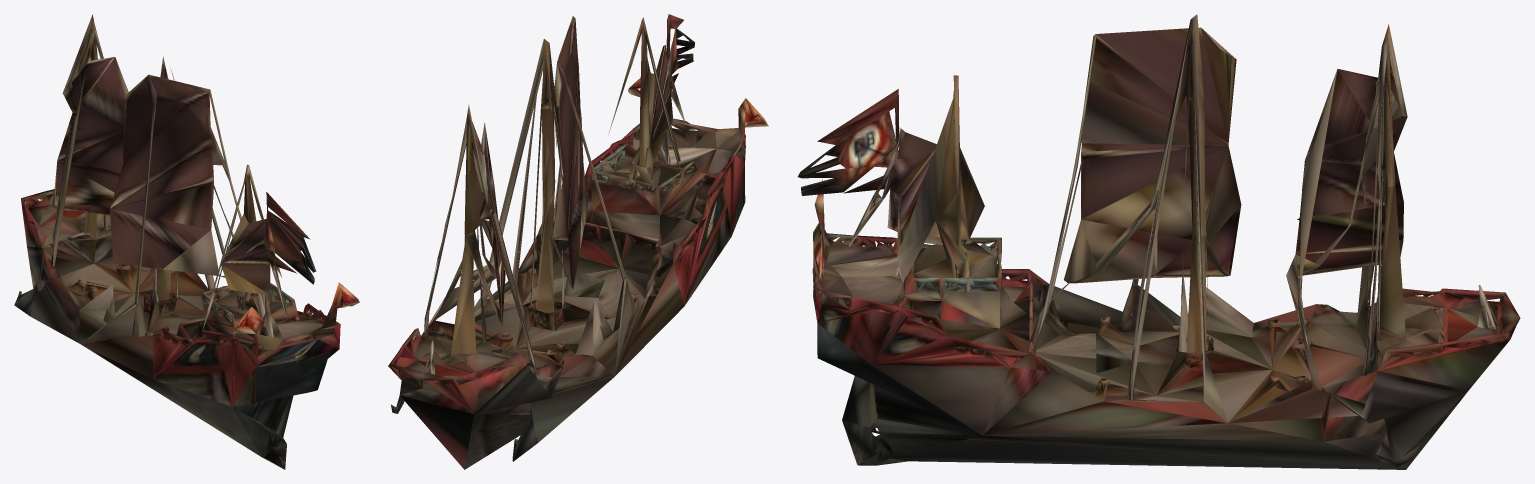
The model's file is mingship_lod2.glb.
The picture shows the model from 3 angles, left to right: view 1: azimuth 30°, elevation 25°; view 2: azimuth 150°, elevation 25°; view 3: azimuth 270°, elevation 25°; orthographic projection. The views are drawn at different scales.
Visible parts, largest first — view 1: tripo_node_70cdce41-6409-4703-9004-900b044624e9; view 2: tripo_node_70cdce41-6409-4703-9004-900b044624e9; view 3: tripo_node_70cdce41-6409-4703-9004-900b044624e9.
Part boxes in pixels (bbox=[...]): tripo_node_70cdce41-6409-4703-9004-900b044624e9: bbox=[14, 14, 359, 469]; tripo_node_70cdce41-6409-4703-9004-900b044624e9: bbox=[388, 14, 768, 469]; tripo_node_70cdce41-6409-4703-9004-900b044624e9: bbox=[797, 14, 1520, 469].
Size of the model in its own units: 0.29 by 0.6692 by 0.9557.
Materials: 1 (1 with a texture image).
